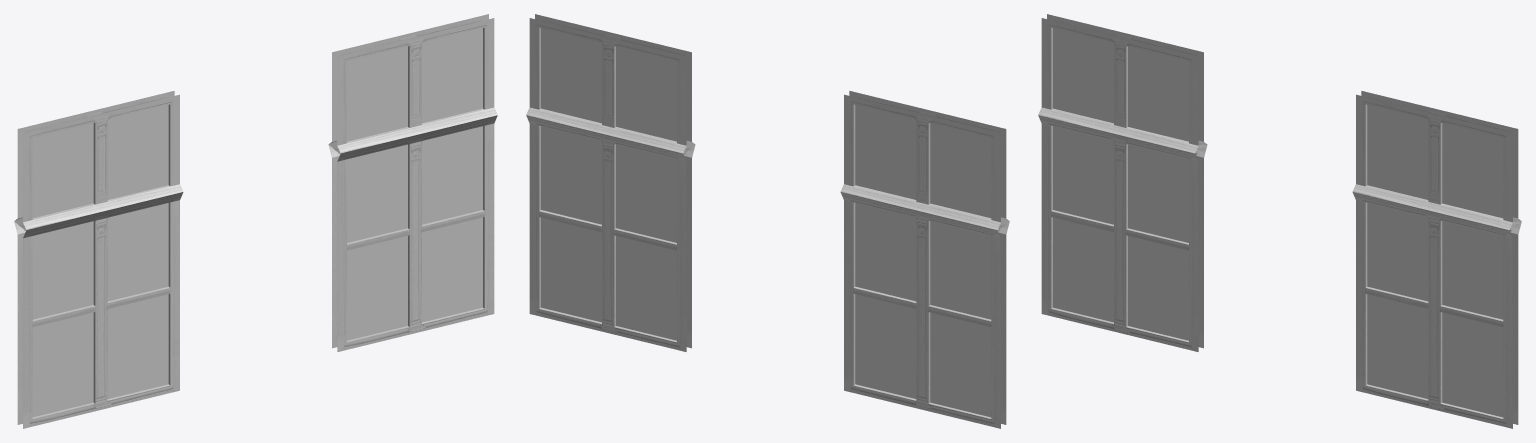
The model's file is Window2A.fbx.
3 views of the same model, side by side, from view 1: azimuth 30°, elevation 25°; view 2: azimuth 150°, elevation 25°; view 3: azimuth 330°, elevation 25° (orthographic).
Visible parts, largest first — view 1: Window2A; view 2: Window2A; view 3: Window2A.
Boxes of the visible parts, x1,y1,x2,y2 form: Window2A: (14,14,497,428); Window2A: (526,14,1009,428); Window2A: (1038,14,1521,428).
Size of the model in its own units: 300 by 180 by 13.57.
